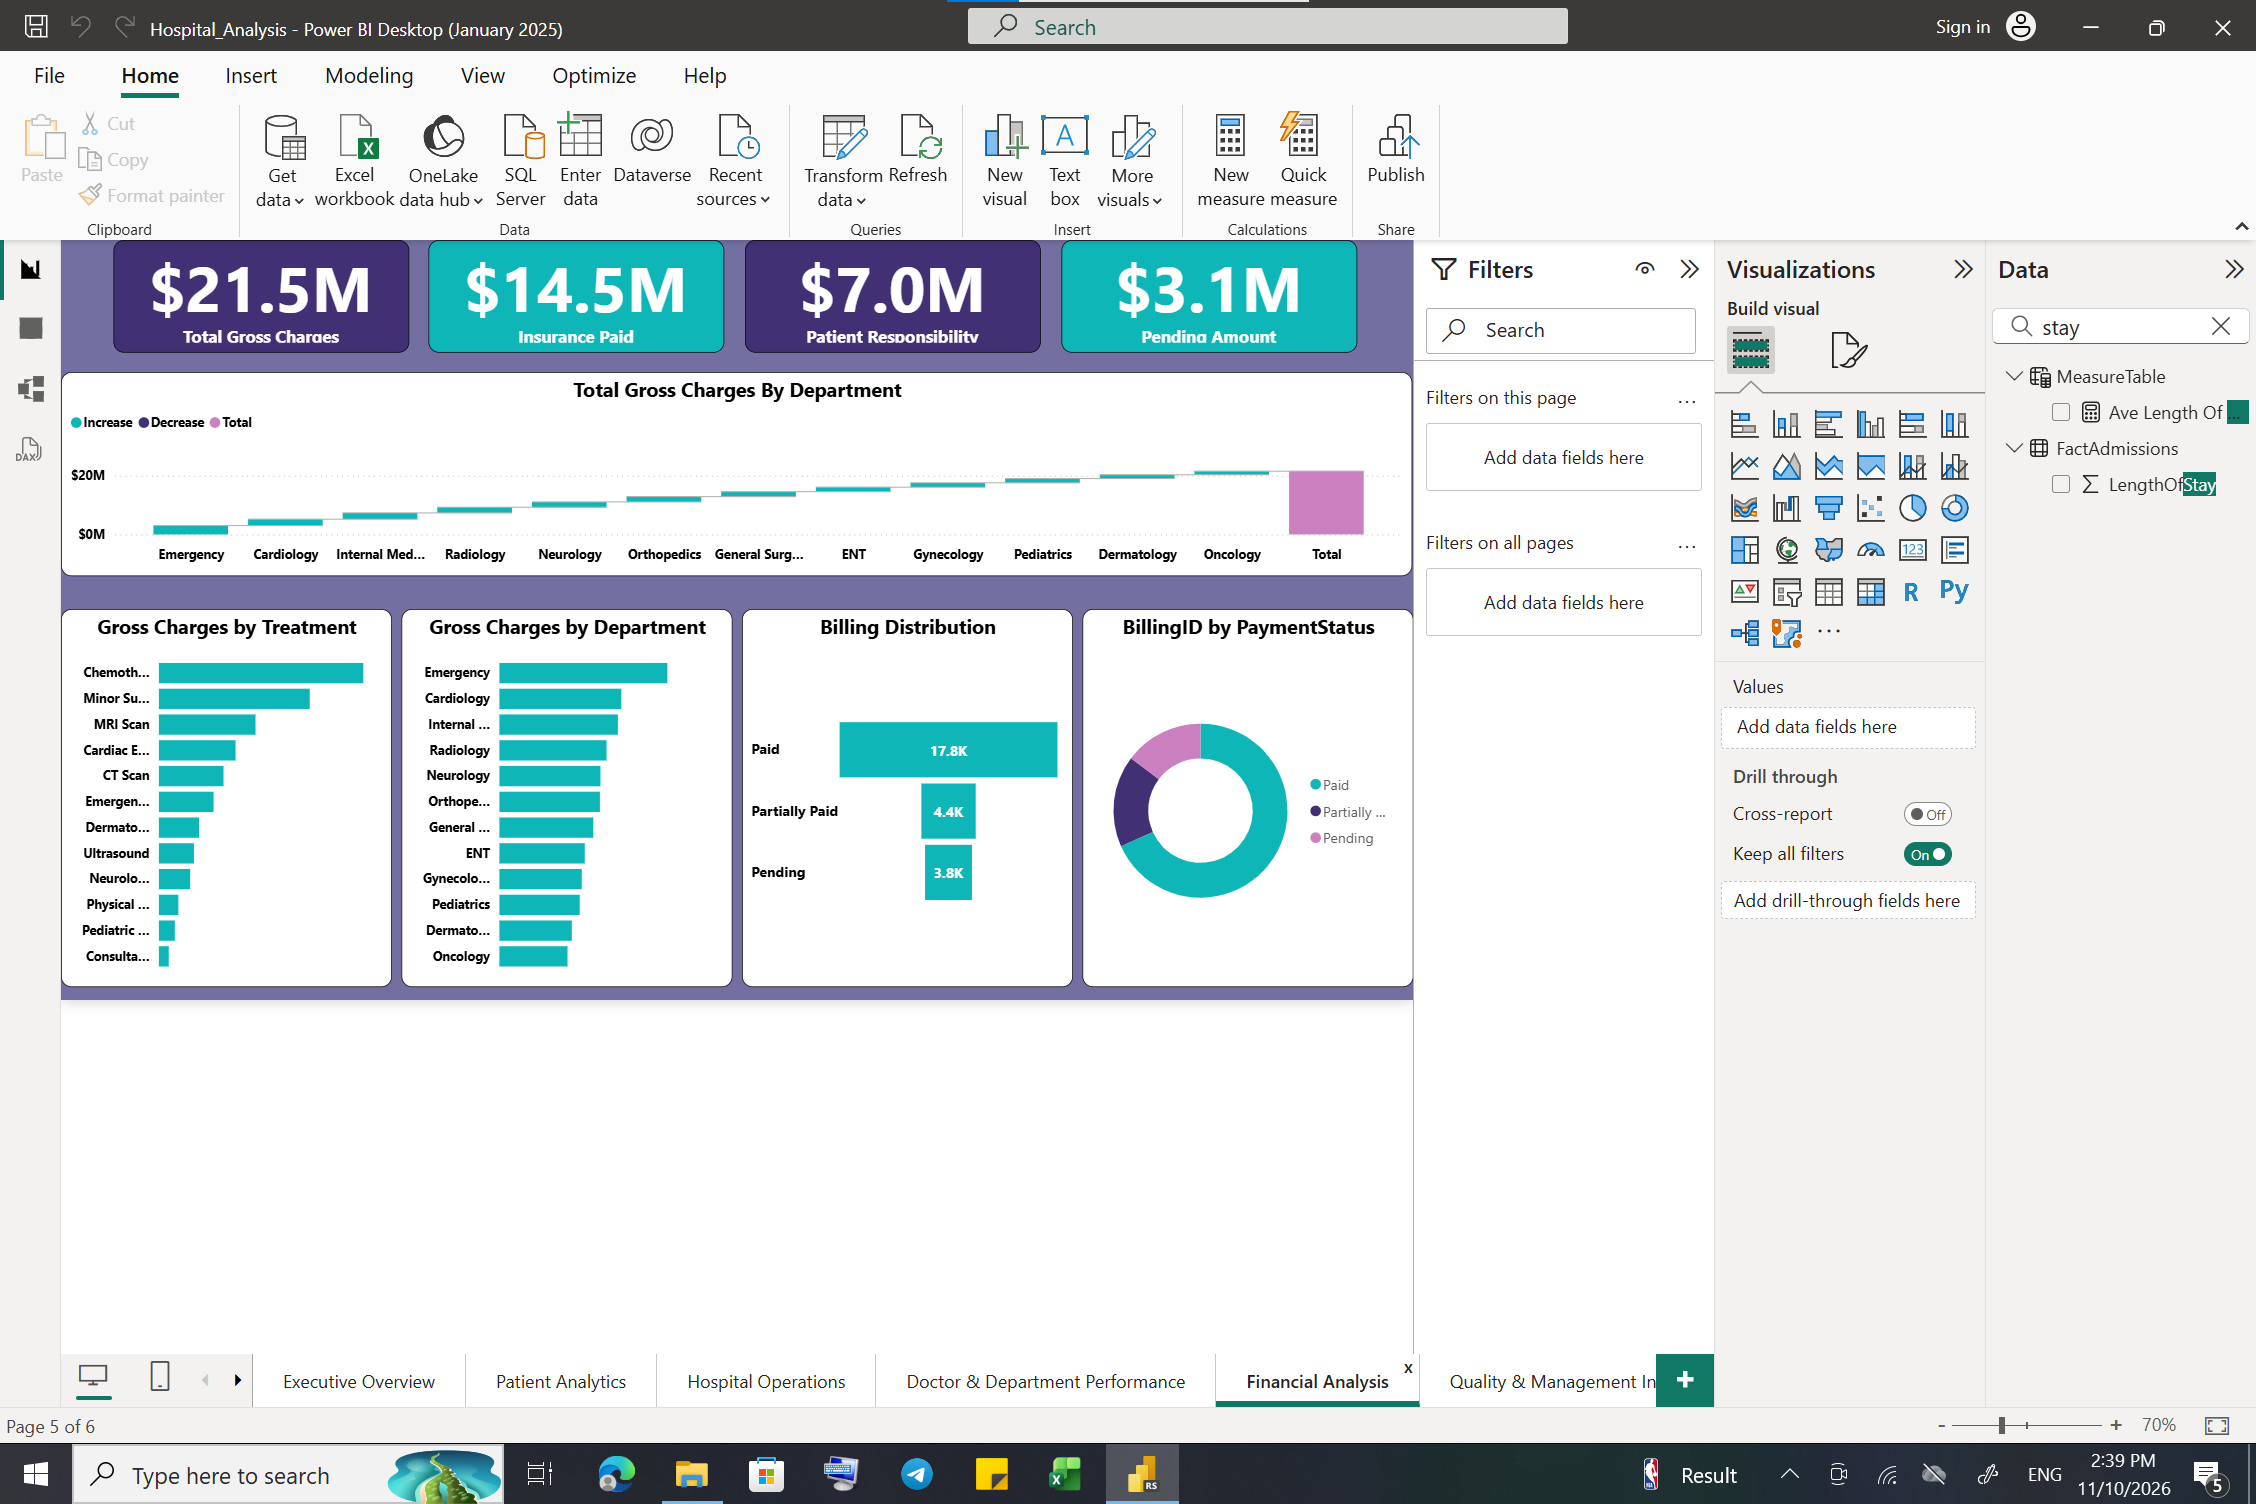

The dashboard page shown, as its layout file describes it:
{"tool":"powerbi","page":{"name":"Financial Analysis","canvas":[1280,720],"ordinal":4},"visuals":[{"type":"card","fields":{"Values":["MeasureTable.Total Gross Charges"]},"box":[49.4,0,279.8,106.5],"z":0},{"type":"card","fields":{"Values":["MeasureTable.Insurance Paid"]},"box":[348.6,0,279.8,106.5],"z":1000},{"type":"card","fields":{"Values":["MeasureTable.Pending Amount"]},"box":[946.9,0,279.8,106.5],"z":2000},{"type":"card","fields":{"Values":["MeasureTable.Patient Responsibility"]},"box":[647.7,0,279.8,106.5],"z":3000},{"type":"clusteredBarChart","title":" Gross Charges by Department","fields":{"Category":["DimDepartment.DepartmentName"],"Y":["MeasureTable.Total Gross Charges"]},"box":[322.4,349.4,313,357.9],"z":4000},{"type":"clusteredBarChart","title":"Gross Charges by Treatment","fields":{"Y":["MeasureTable.Total Gross Charges"],"Category":["DimTreatment.TreatmentName"]},"box":[0,349.4,313,357.9],"z":5000},{"type":"waterfallChart","title":"Total Gross Charges By Department","fields":{"Category":["DimDepartment.DepartmentName"],"Y":["MeasureTable.Total Gross Charges"]},"box":[0,125,1279.5,193.1],"z":6000},{"type":"donutChart","title":"BillingID by PaymentStatus","fields":{"Category":["FactBilling.PaymentStatus"],"Y":["CountNonNull(FactBilling.BillingID)"]},"box":[967,349.4,313,357.9],"z":7000},{"type":"funnel","title":"Billing Distribution","fields":{"Category":["FactBilling.PaymentStatus"],"Y":["CountNonNull(FactBilling.BillingID)"]},"box":[644.7,349.4,313,357.9],"z":8000}]}

Visuals, with their boxes on the page's 1280x720 design canvas (x1, y1, x2, y2). These are canvas units, not pixel positions in the 2256x1504 screenshot, which may show the page scaled, cropped or inside an application window:
card - MeasureTable.Total Gross Charges: region(49, 0, 329, 106)
card - MeasureTable.Insurance Paid: region(349, 0, 628, 106)
card - MeasureTable.Pending Amount: region(947, 0, 1227, 106)
card - MeasureTable.Patient Responsibility: region(648, 0, 928, 106)
" Gross Charges by Department" clusteredBarChart: region(322, 349, 635, 707)
"Gross Charges by Treatment" clusteredBarChart: region(0, 349, 313, 707)
"Total Gross Charges By Department" waterfallChart: region(0, 125, 1280, 318)
"BillingID by PaymentStatus" donutChart: region(967, 349, 1280, 707)
"Billing Distribution" funnel: region(645, 349, 958, 707)
